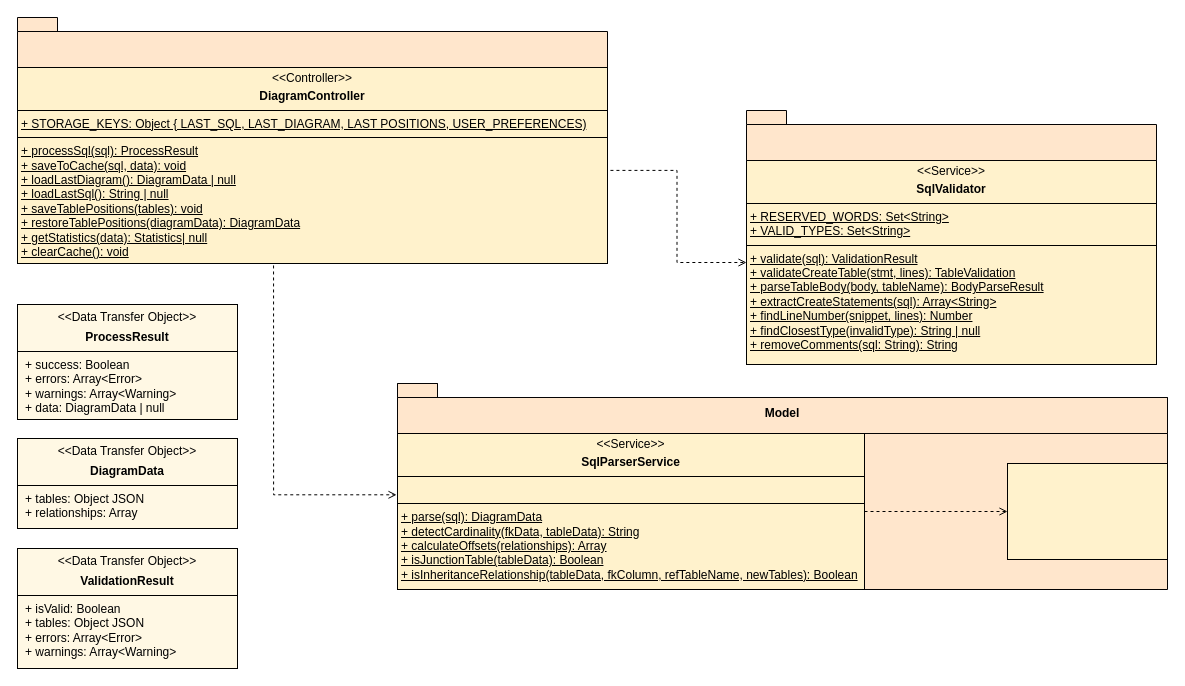
The diagram is 1185 pixels wide and 686 high, and some of its shapes have lost their labels. The shapes that lost their labels are listed below. From the top down, each one's centre as x and y in pixels, then its label:
At (312,42): "Controller".
At (951,135): "Service".
At (1087,511): "<<External Library>> Parser + astify(sql): Object AST".
